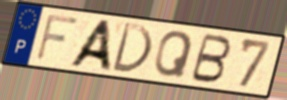7: (238, 37, 274, 90)
A: (65, 19, 114, 73)
B: (188, 32, 233, 85)
D: (109, 21, 154, 76)
F: (33, 12, 81, 63)
Q: (152, 29, 196, 79)
